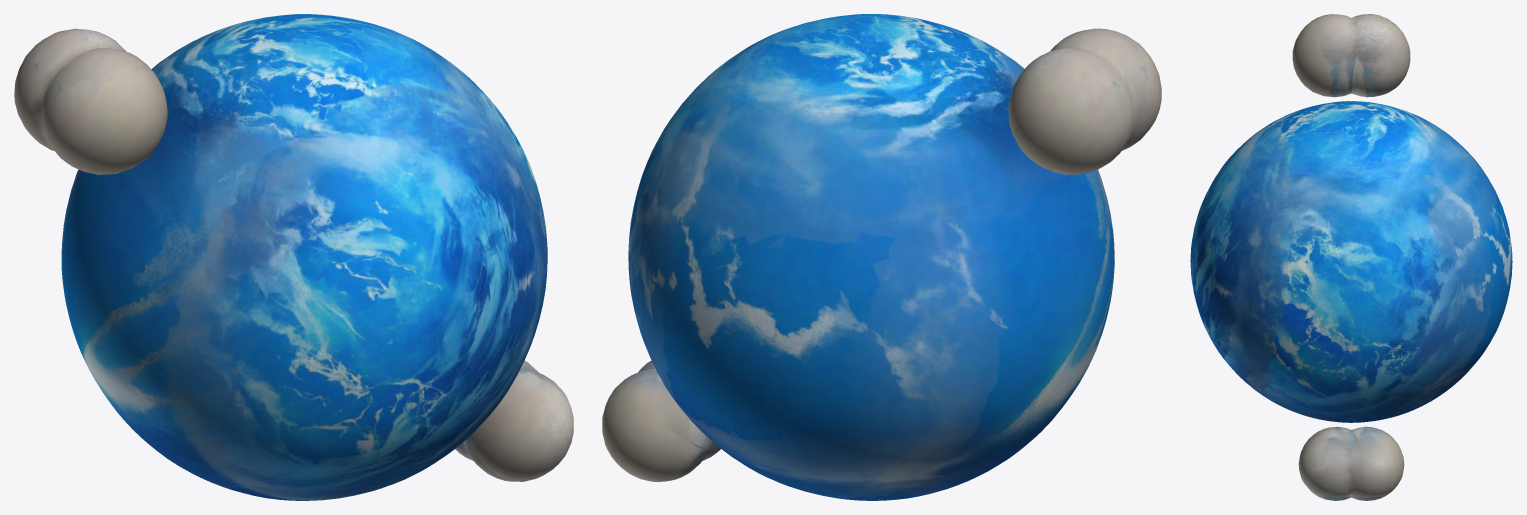
Rendered from Water_Planet.glb.
3 views of the same model, side by side, from view 1: azimuth 30°, elevation 25°; view 2: azimuth 150°, elevation 25°; view 3: azimuth 270°, elevation 25° (orthographic). The views are drawn at different scales.
Bounding box in the file's own units: 1.91 × 1.84 × 1.55.
Materials: 1 (1 with a texture image).
